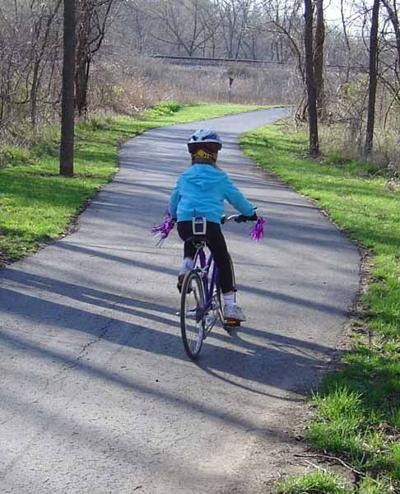person: (170, 124, 257, 328)
